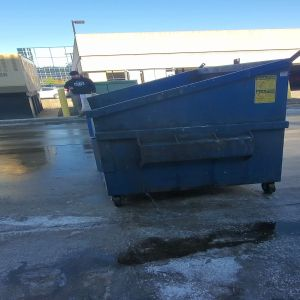Dumpster: (85, 57, 293, 206)
Person: (65, 70, 95, 94)
